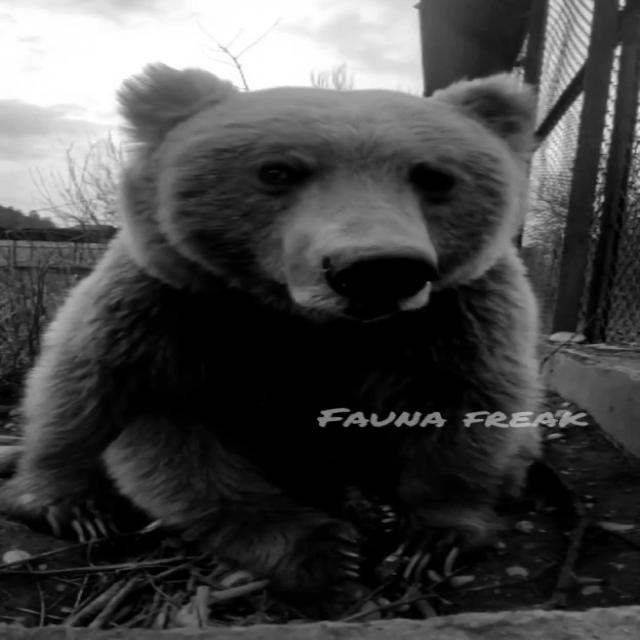Bear: (1, 60, 548, 606)
